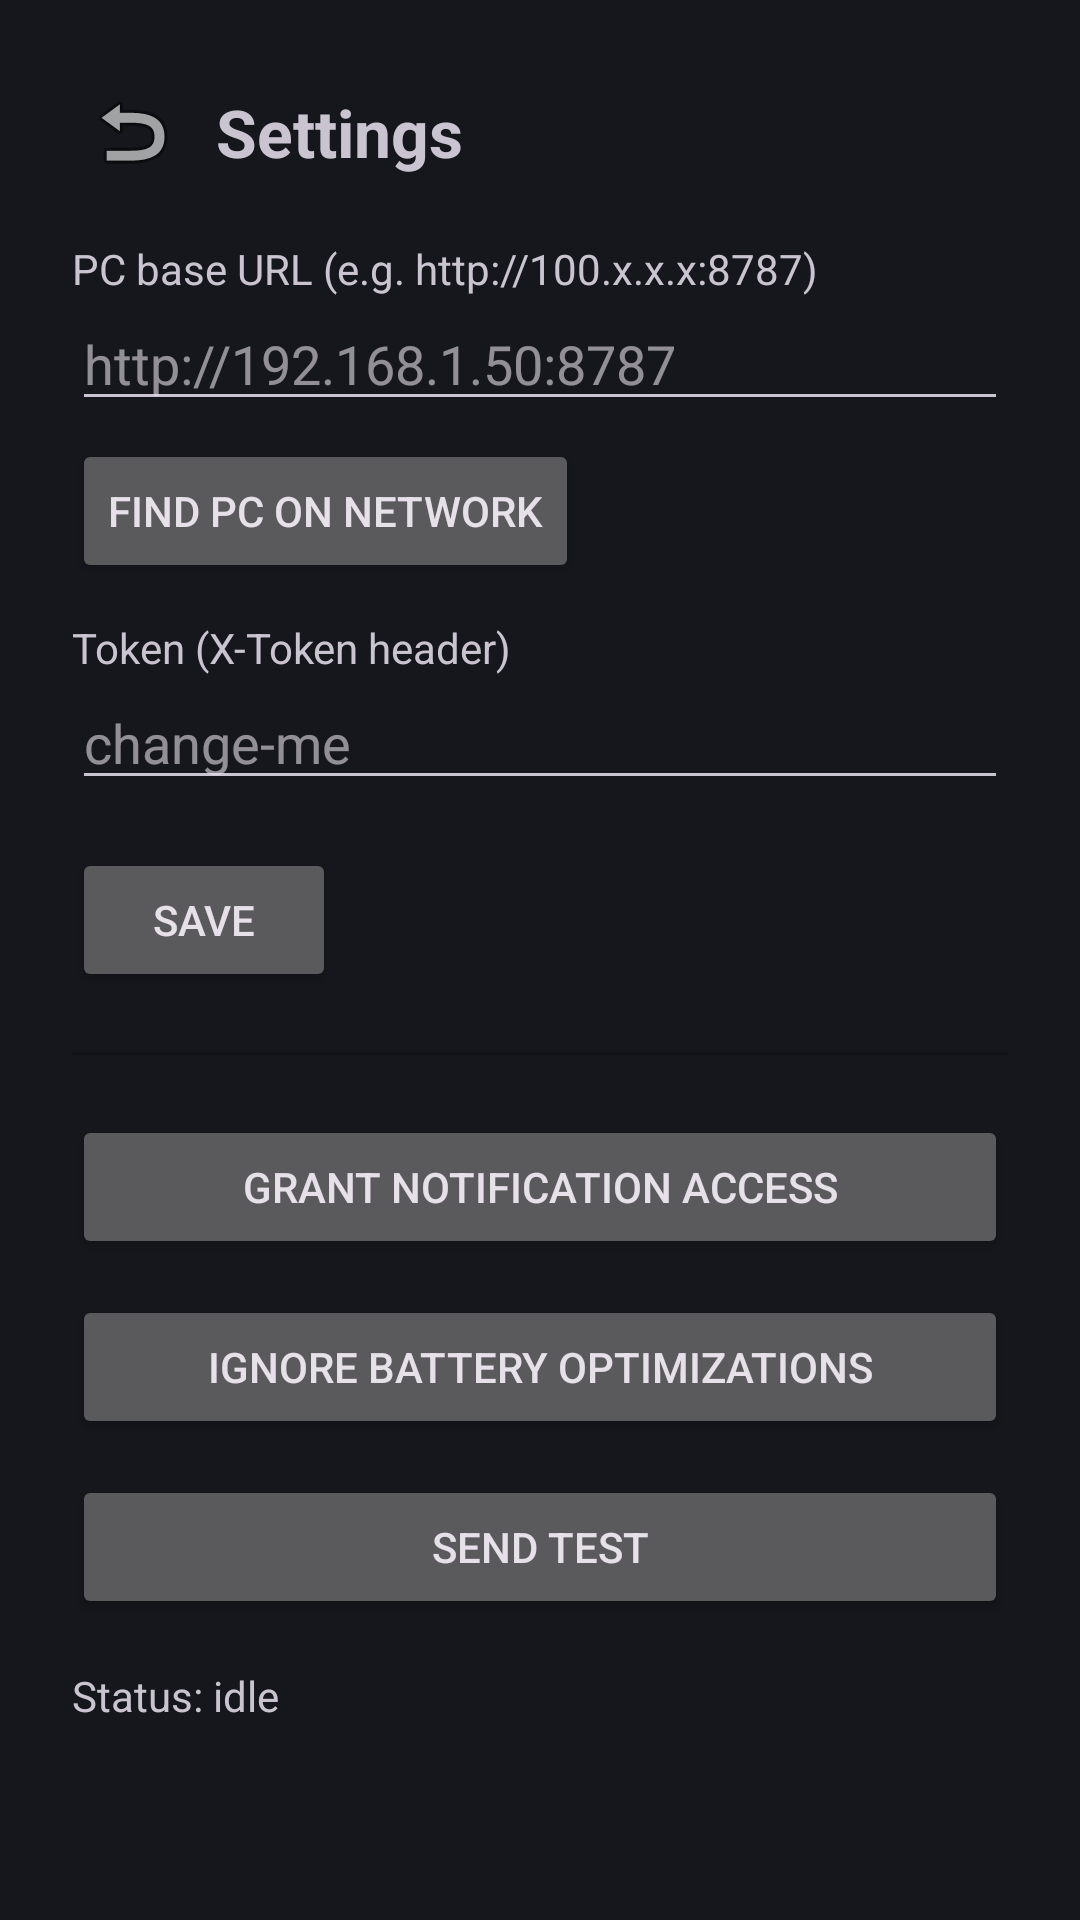

Icons on this 1080px×1920px Android screen, each with its box as (x1, y1, x2, y2):
Back: (102, 104, 165, 161)
